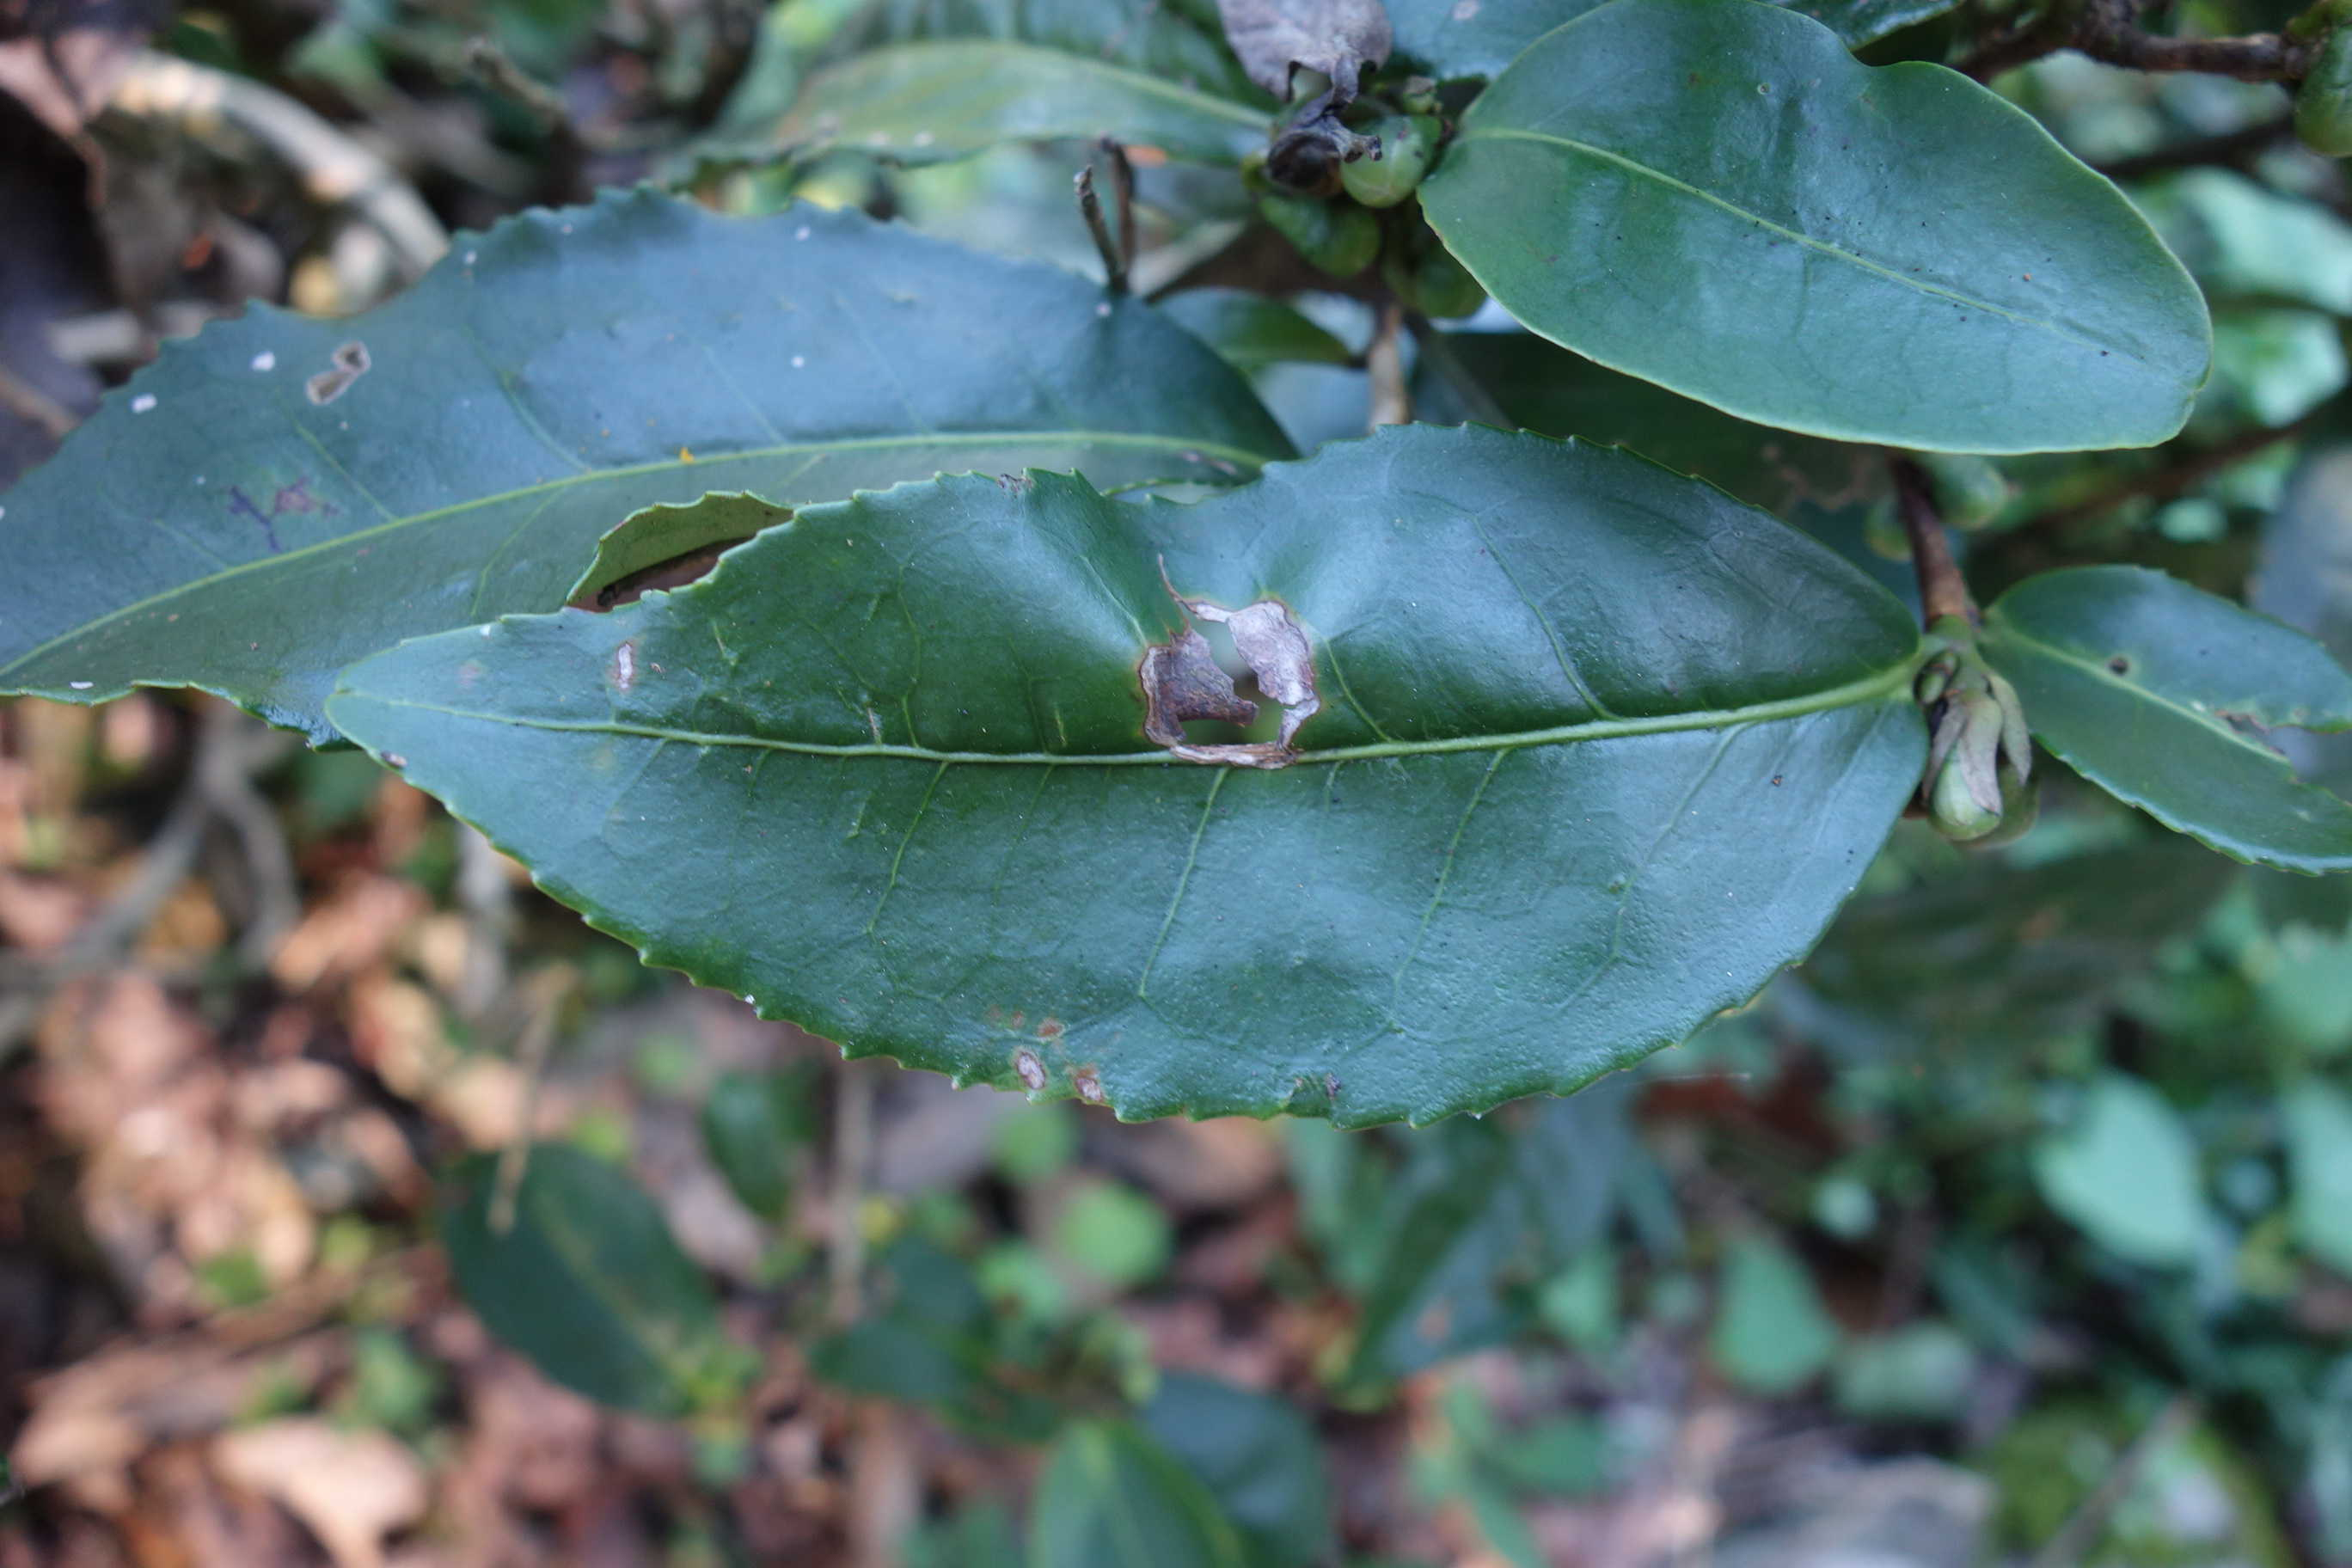chihuo_high: (1990, 558, 2352, 878)
healthy: (1419, 2, 2221, 453)
tanju_high: (329, 422, 1925, 1132)
